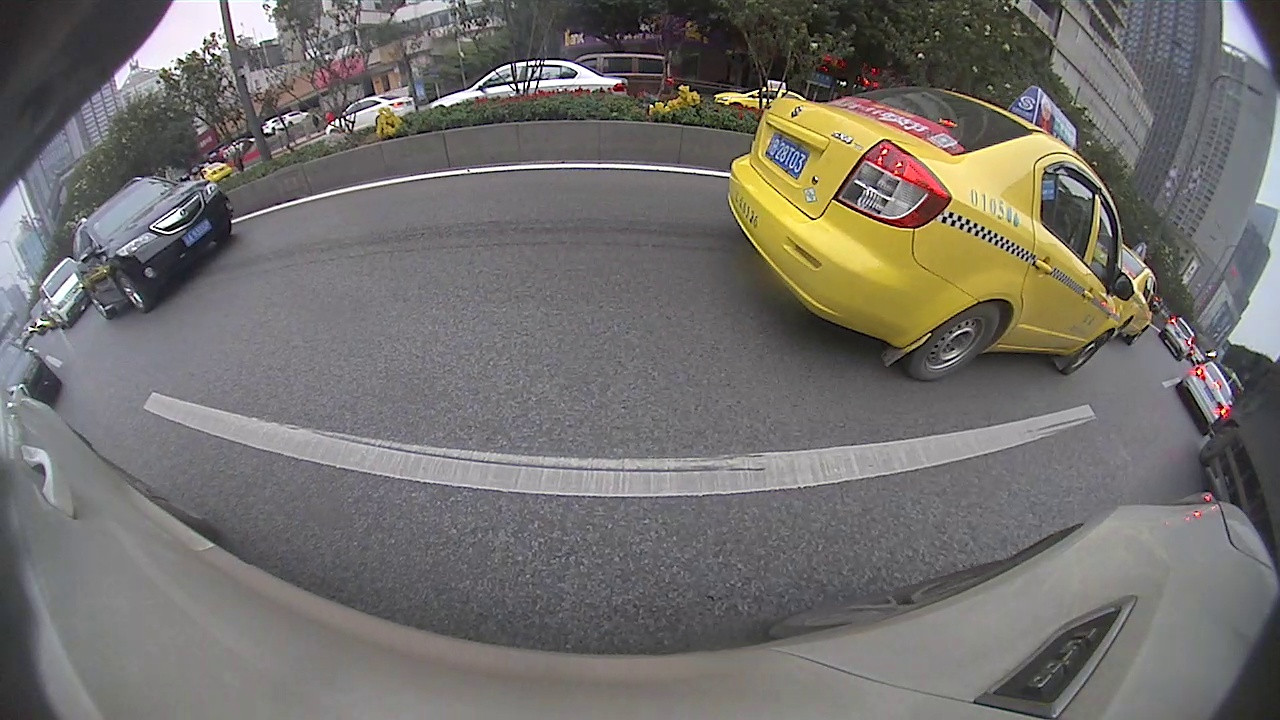car: (726, 82, 1120, 381), (72, 174, 233, 321), (1178, 360, 1236, 435)
front: (1065, 332, 1111, 375), (114, 270, 150, 313)
rear: (907, 303, 1005, 379), (84, 288, 111, 320)
